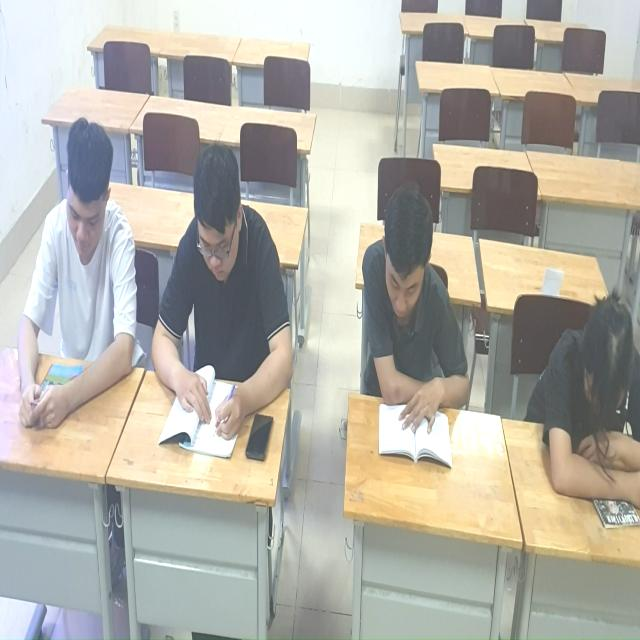read: (142, 141, 297, 475), (1, 109, 133, 441), (359, 182, 472, 470)
sleep: (527, 314, 640, 513)
